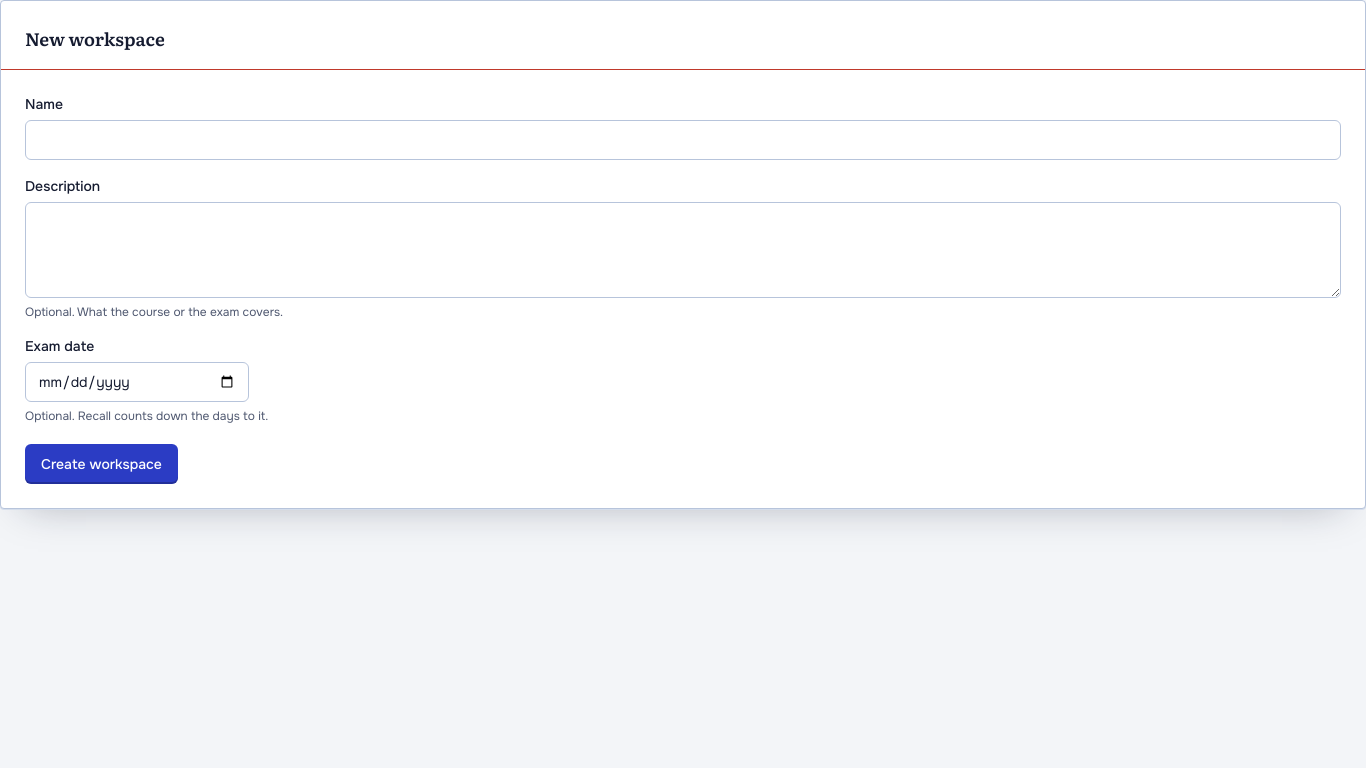
it: CreateWorkspaceForm › flags a half-typed exam date together with the other mistakes
What coordinates should you click on to do the following:
click the button "Create workspace"
I would click on:
 (101, 464)
Its box is 25,444 -> 178,484.
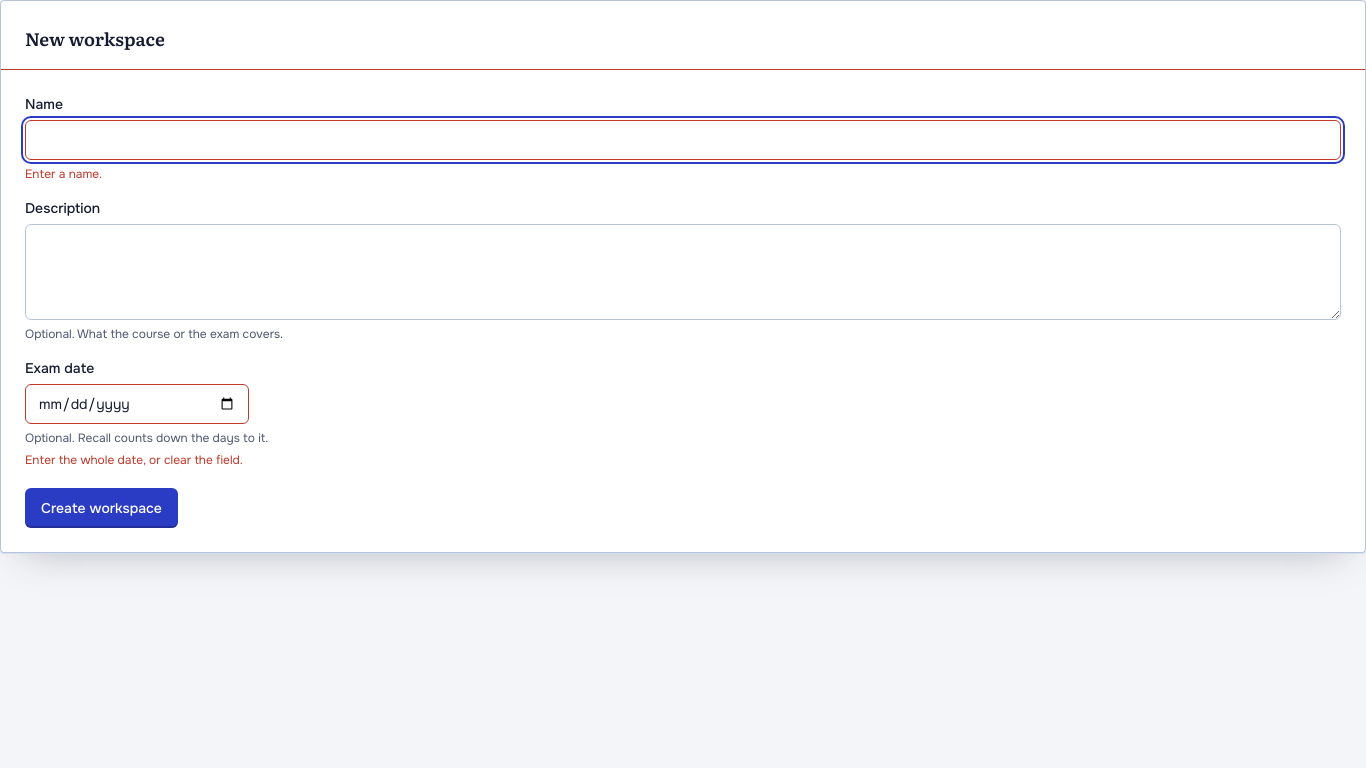
Expected: the text "Enter a name." is shown, 25,166 -> 102,182
Expected: the text "Enter the whole date, or clear the field." is shown, 25,452 -> 243,468
